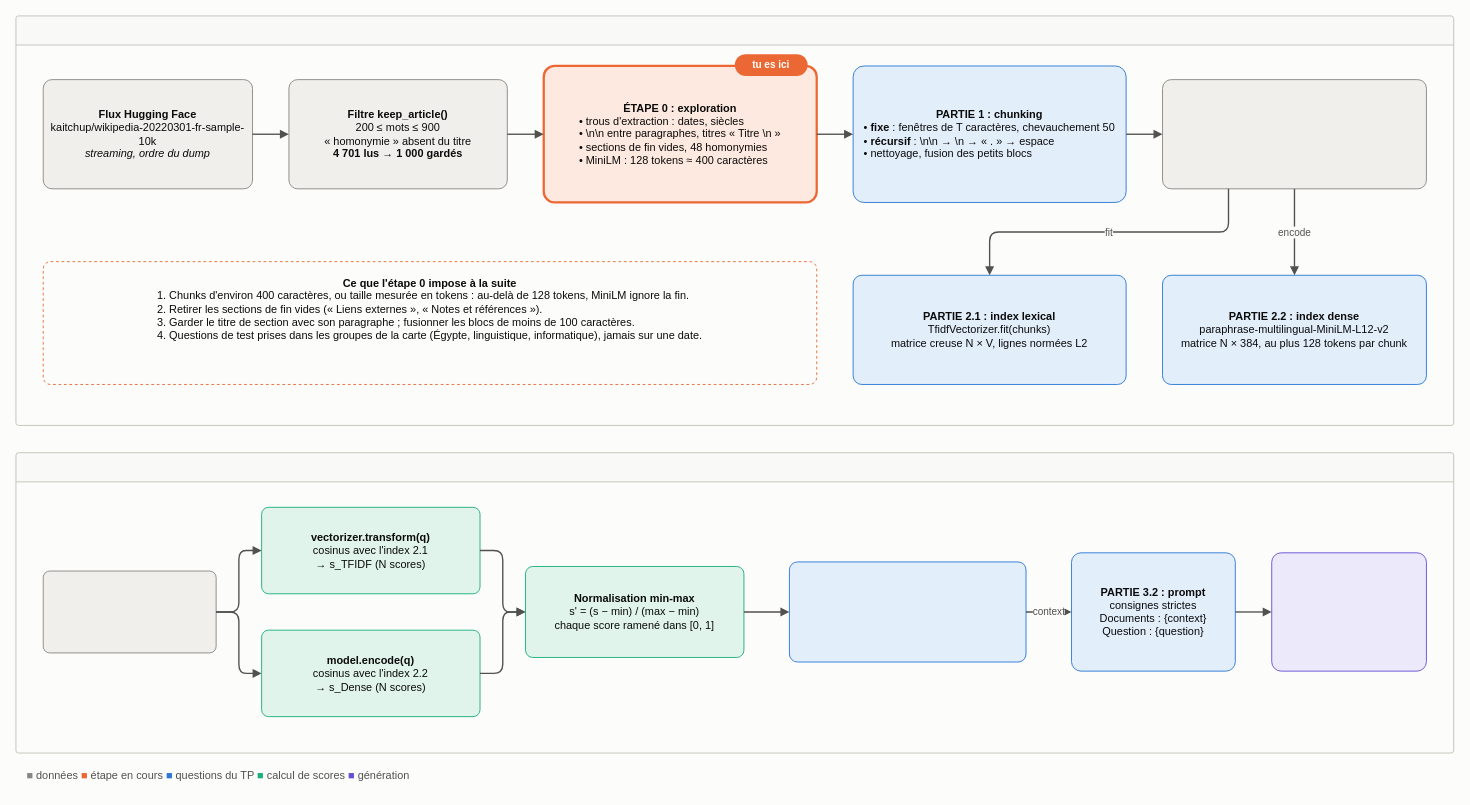
The diagram is 1470 pixels wide and 805 high, and some of its shapes have lost their labels. The box of each missing label's shape, as (x1, y1, x2, y2) in pixels:
chunks : list[dict] {chunk_id, doc_id, title, text} environ 8 à 10 par article: (1162, 79, 1426, 189)
EN LIGNE : à chaque question: (15, 452, 1454, 753)
HORS LIGNE : indexation, exécutée une seule fois: (15, 15, 1454, 425)
PARTIE 2.3 : hybride score = α · s'_Dense + (1 − α) · s'_TFIDF → top-k chunks: (789, 561, 1026, 662)
PARTIES 3.1 et 3.3 Qwen2.5-1.5B-Instruct sur GPU T4 → réponse: (1271, 552, 1426, 671)
Question « Qui est le dieu Atoum ? »: (42, 570, 216, 653)
